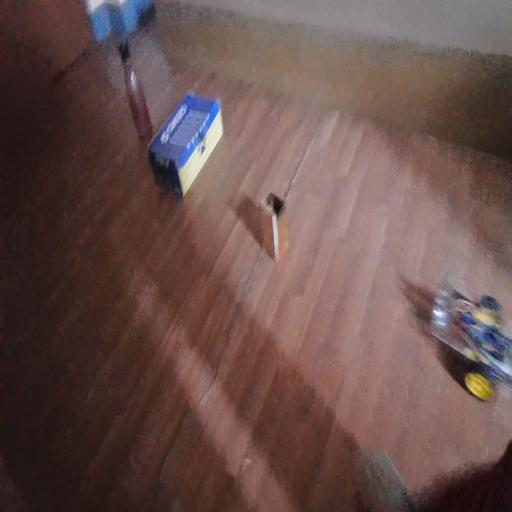Bottle: (120, 41, 154, 145)
car: (440, 262, 505, 383)
